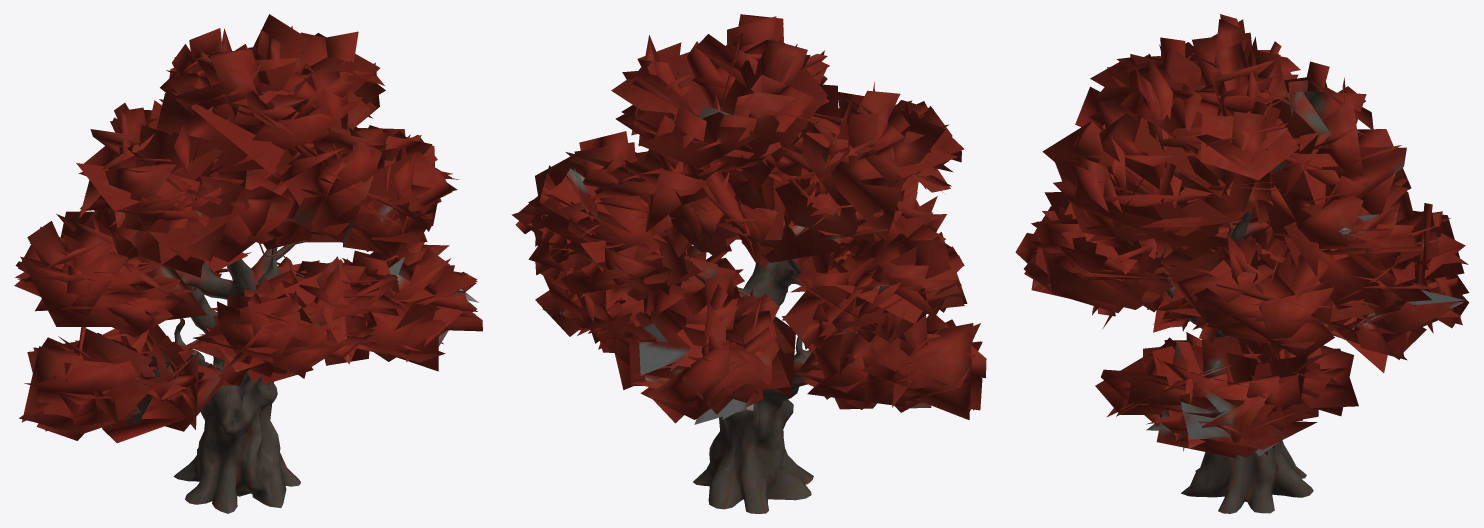
Rendered from Meshy_AI_Red_oak_tree_1025063928_texture.glb.
3 renders of one model, left to right at view 1: azimuth 30°, elevation 25°; view 2: azimuth 150°, elevation 25°; view 3: azimuth 270°, elevation 25°, orthographic. The views are drawn at different scales.
Size of the model in its own units: 0.9463 by 0.9121 by 0.8247.
Materials: 1 (1 with a texture image).
